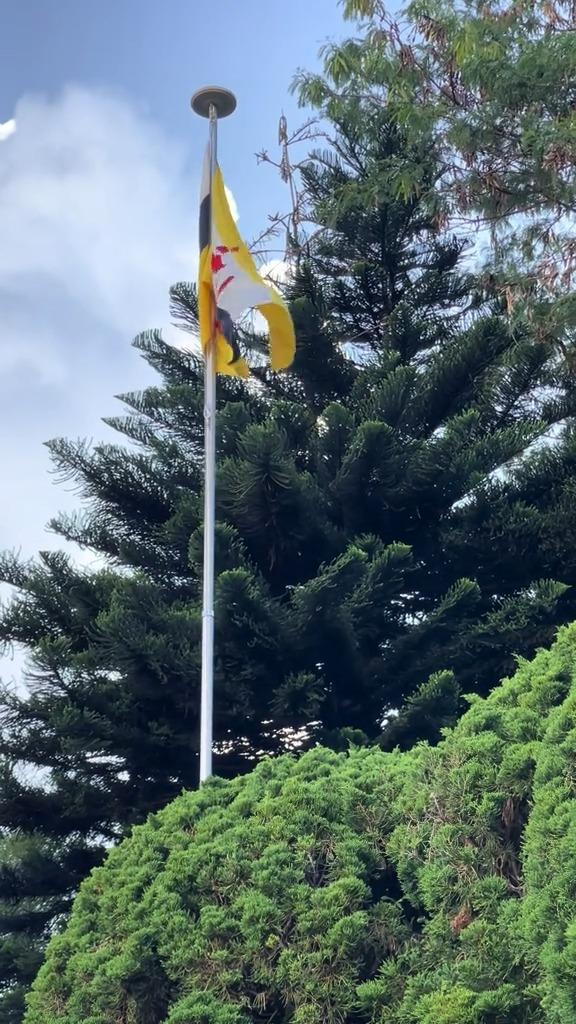Brunei: (193, 139, 293, 377)
